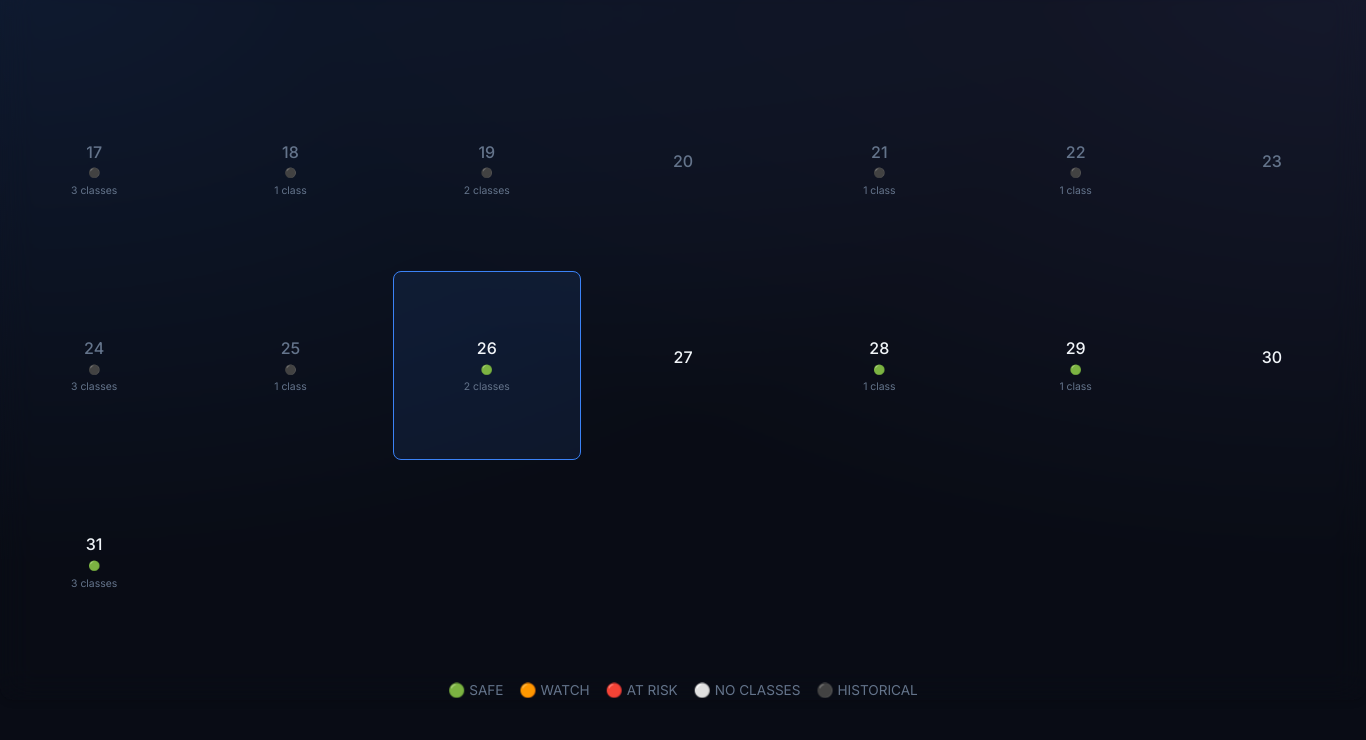
AttendanceCalendar › handles no-class dates gracefully
This screenshot has width=1366, height=740.
(page scrolled)
// Click August 27 (Thursday - no classes in dummy timetable)
Click the text "27" at (683, 357), box [674,345,692,369]
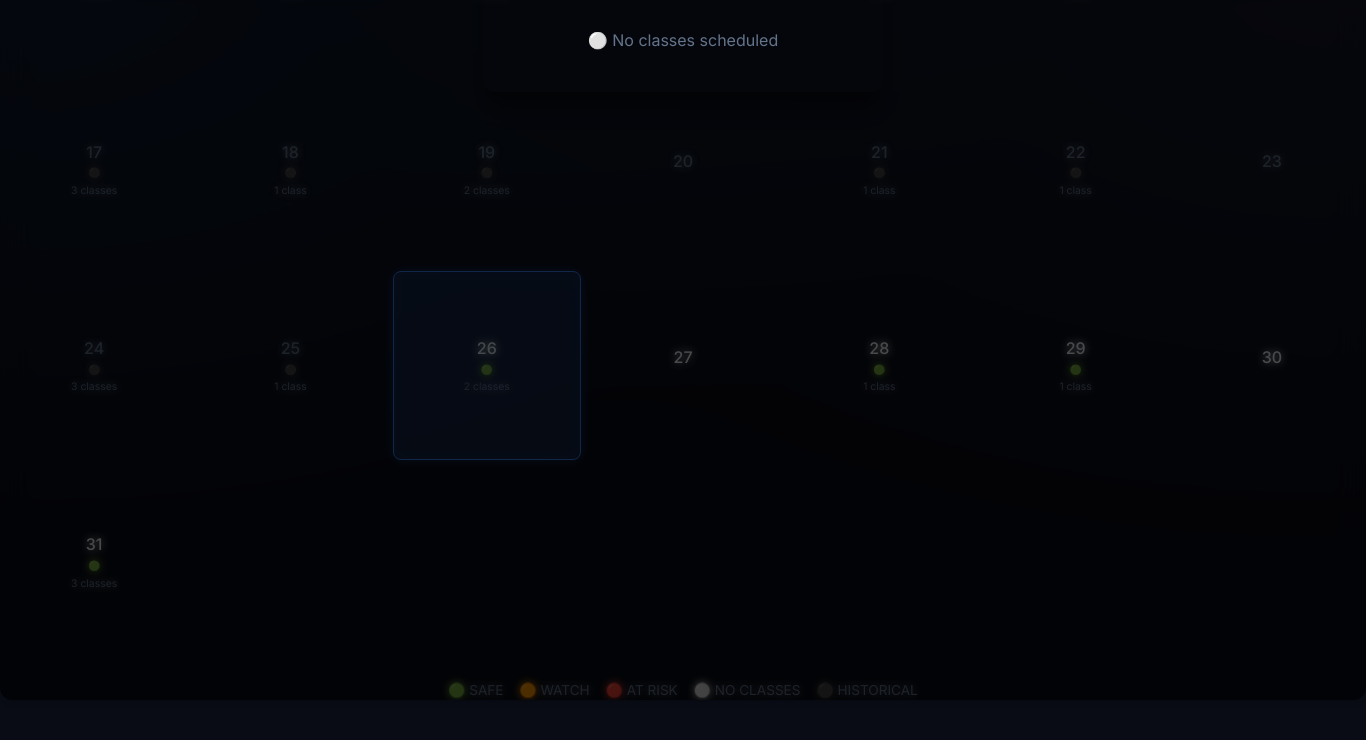
Result: the text "⚪ No classes scheduled" is shown at [588,30,778,50]
